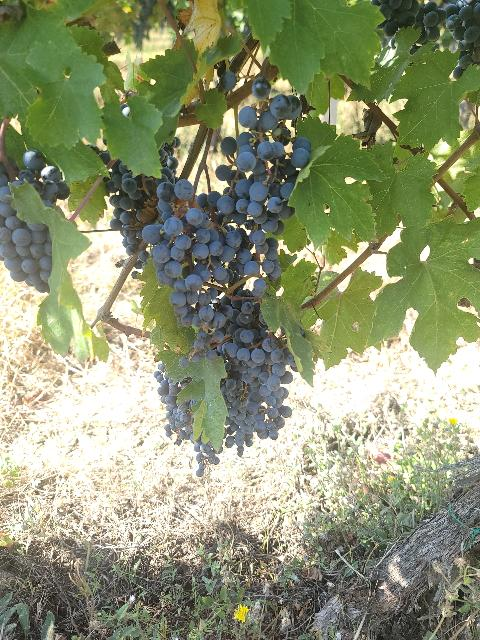grapes: (142, 179, 240, 328), (234, 94, 311, 225), (0, 150, 70, 292), (105, 145, 179, 251), (244, 338, 295, 439), (216, 131, 269, 219), (220, 362, 258, 456), (154, 364, 191, 445)
